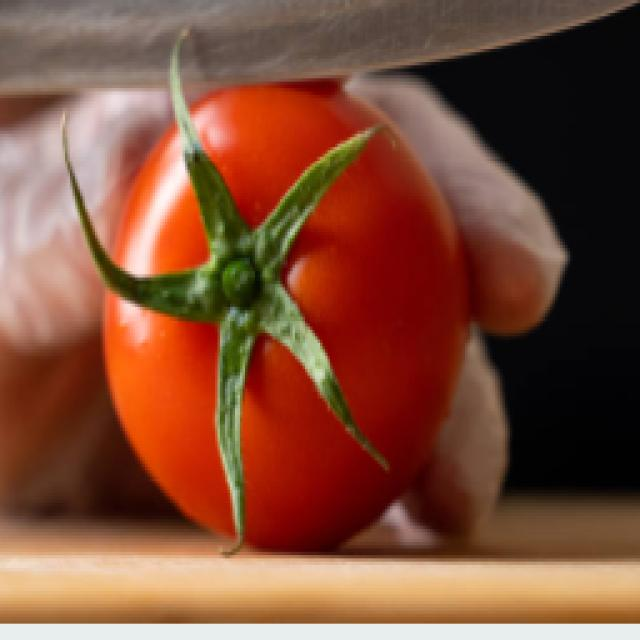Tomato: (67, 51, 477, 562)
